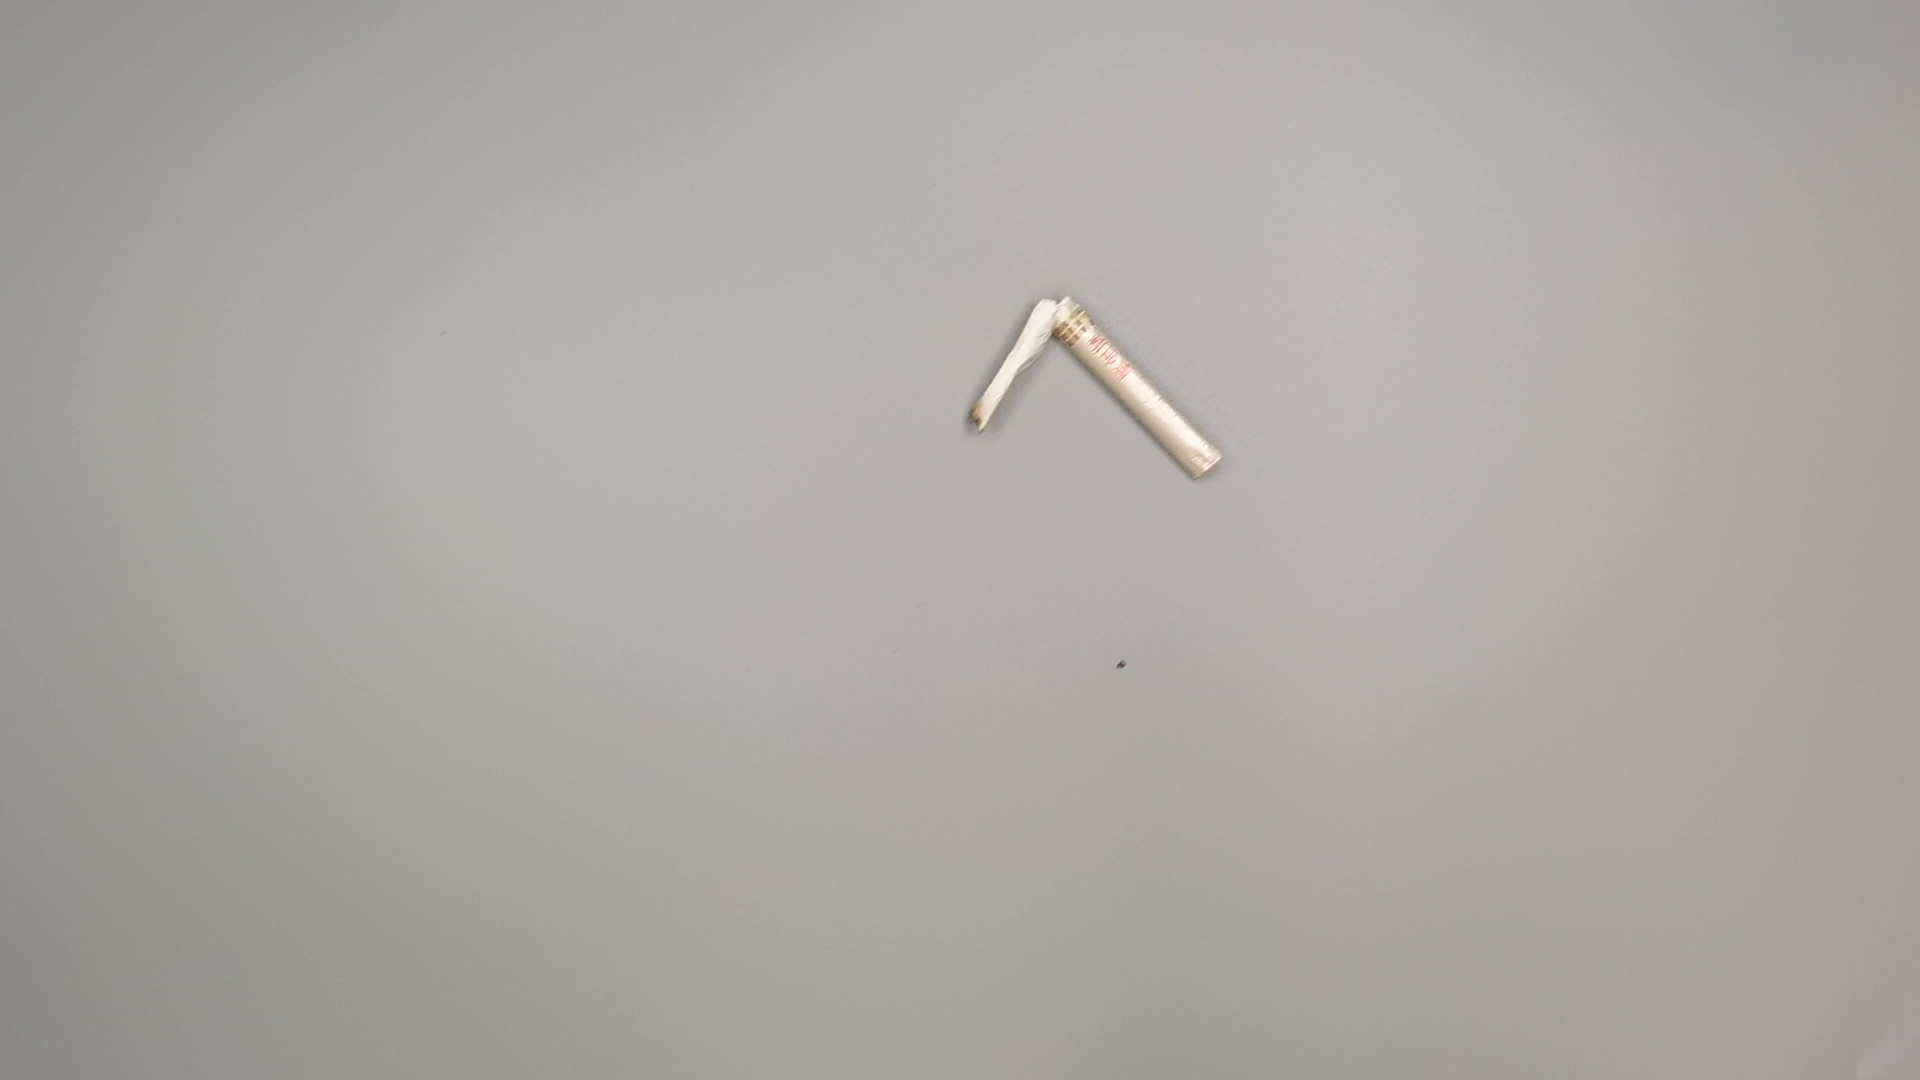cigarette: (963, 280, 1228, 497)
